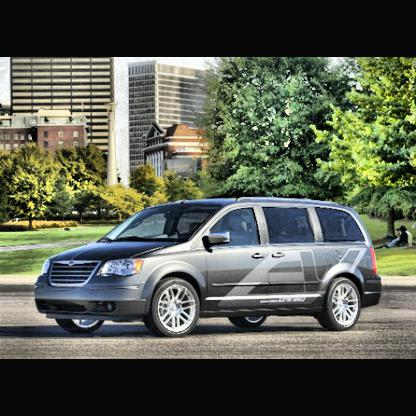Chrysler Town and Country Minivan 2012: (36, 200, 385, 336)
